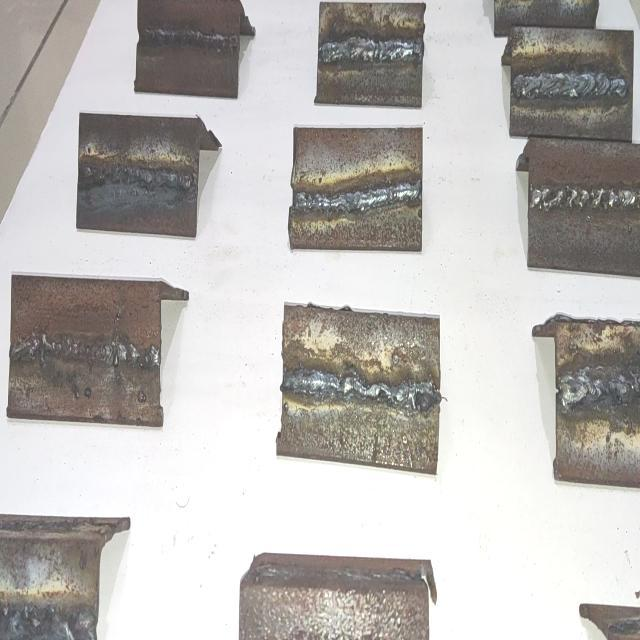Defect: (13, 336, 150, 372), (0, 605, 93, 640), (594, 366, 631, 414)
Welding Line: (284, 368, 440, 412), (11, 336, 158, 372), (296, 176, 420, 213), (512, 71, 630, 102), (319, 36, 422, 66), (561, 369, 640, 407), (80, 167, 194, 193), (531, 186, 640, 213), (138, 28, 237, 51)
Workpiece: (276, 302, 443, 478), (6, 274, 164, 422), (291, 122, 425, 254), (527, 134, 640, 278), (76, 111, 200, 242), (510, 20, 640, 144), (554, 312, 640, 488), (314, 0, 427, 107), (134, 0, 240, 98)
